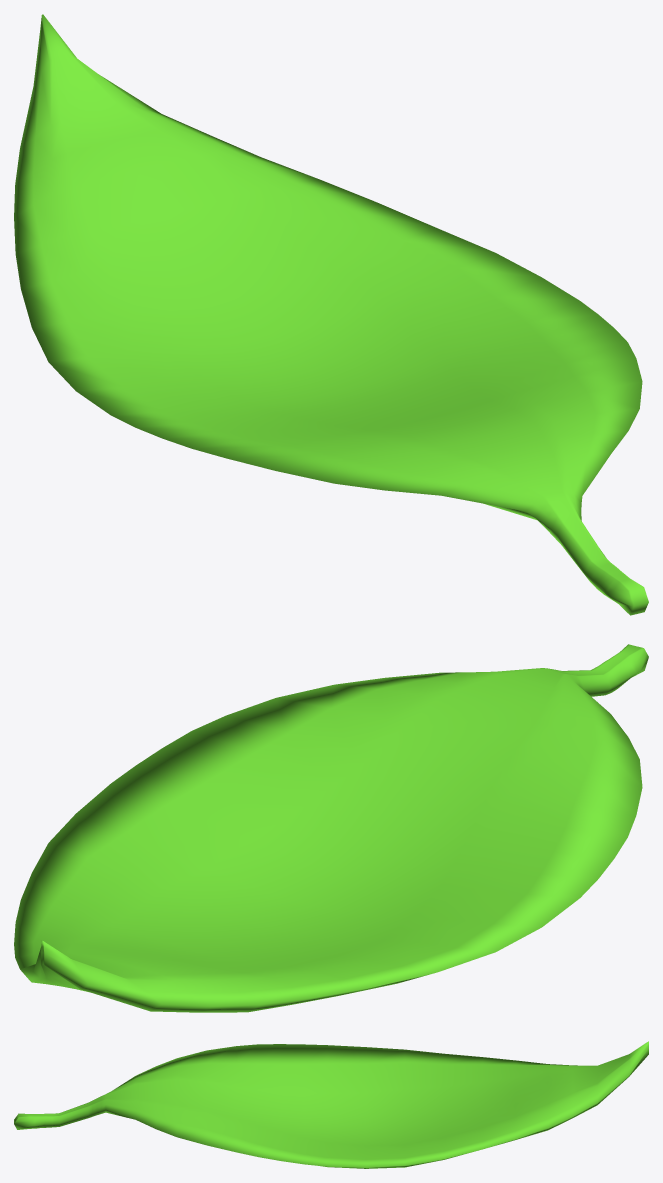
The model's file is Leaf2.glb.
3 renders of one model, top to bottom at view 1: azimuth 30°, elevation 25°; view 2: azimuth 150°, elevation 25°; view 3: azimuth 270°, elevation 25°, orthographic. The views are drawn at different scales.
Visible parts, largest first — view 1: Plane; view 2: Plane; view 3: Plane.
Boxes of the visible parts, left/top/right/bottom form: Plane: left=14, top=14, right=648, bottom=615; Plane: left=14, top=644, right=648, bottom=1012; Plane: left=14, top=1041, right=648, bottom=1168.
Bounding box in the file's own units: 3.7 × 1.38 × 8.16.
